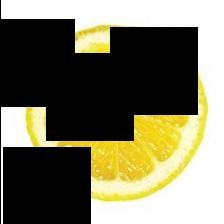yellow: (25, 27, 206, 201)
